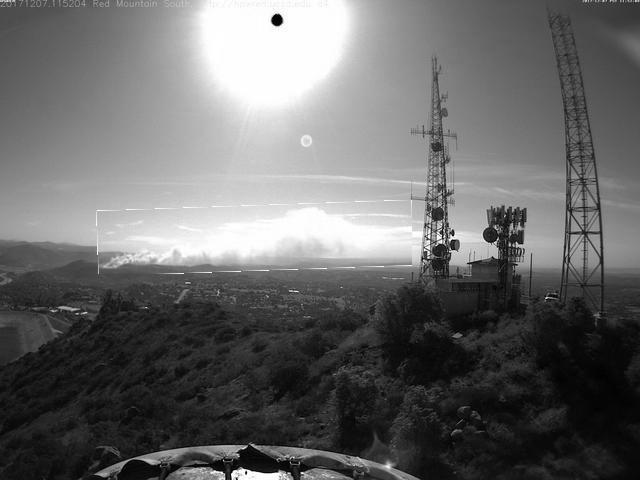smoke: (98, 204, 414, 274)
